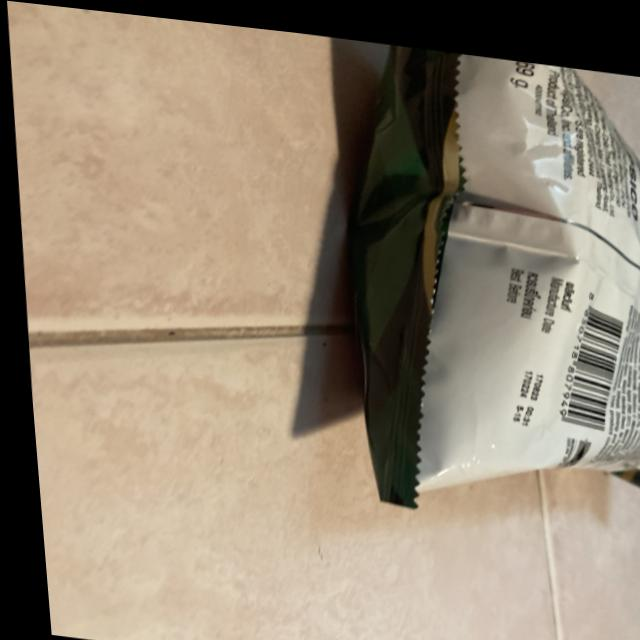Laygreen: (325, 29, 640, 540)
